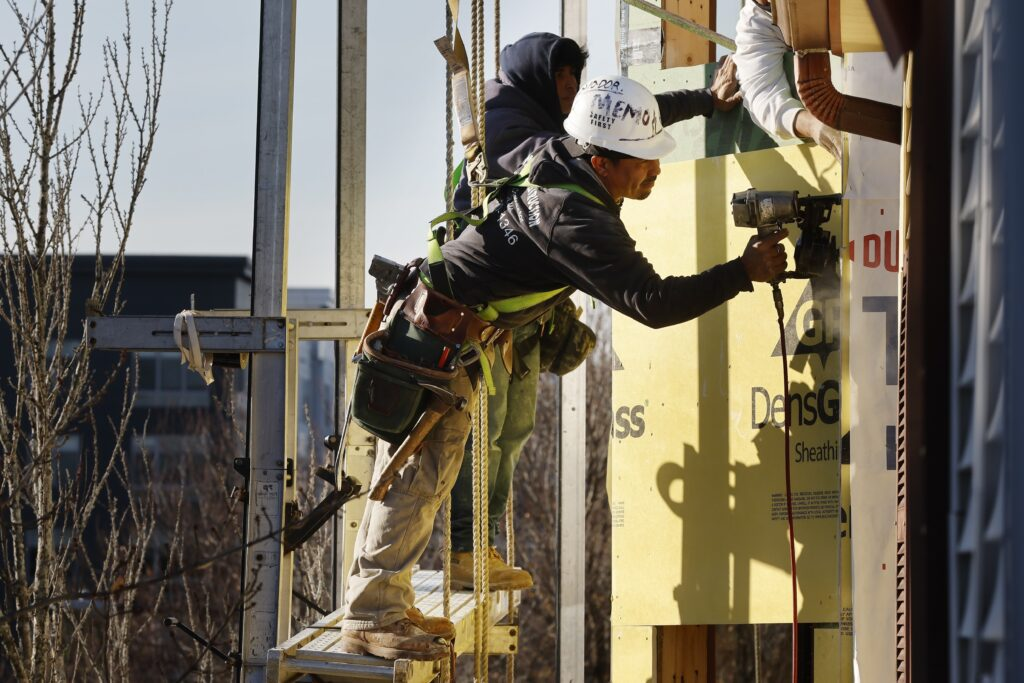face: (604, 154, 672, 198)
hat: (565, 80, 686, 165)
